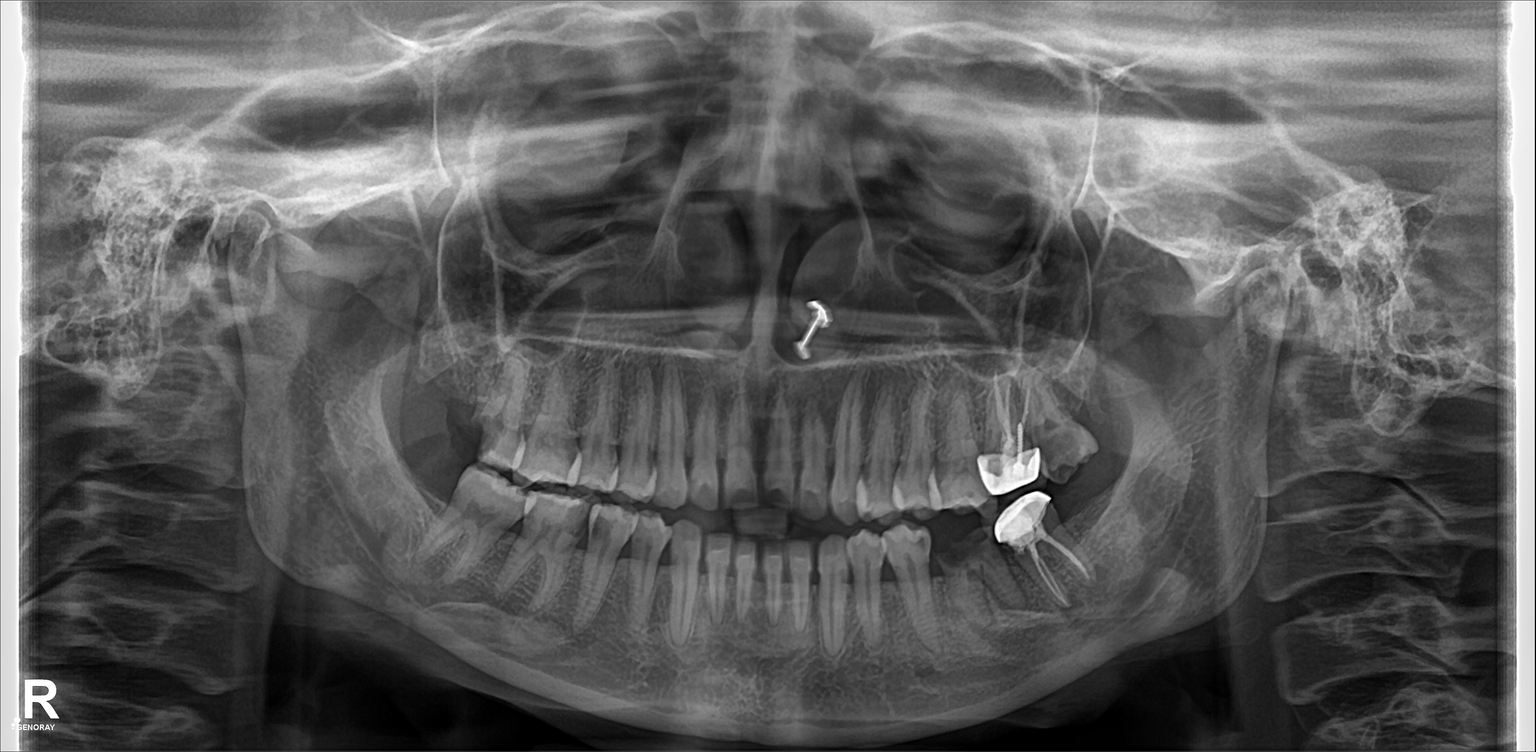Dental Caries: (935, 529, 991, 566)
Endodontically Treated Tooth: (1002, 501, 1092, 611), (983, 374, 1041, 490)
Missing Tooth: (402, 356, 442, 445), (443, 359, 484, 439), (1065, 480, 1111, 545), (415, 456, 450, 520)
